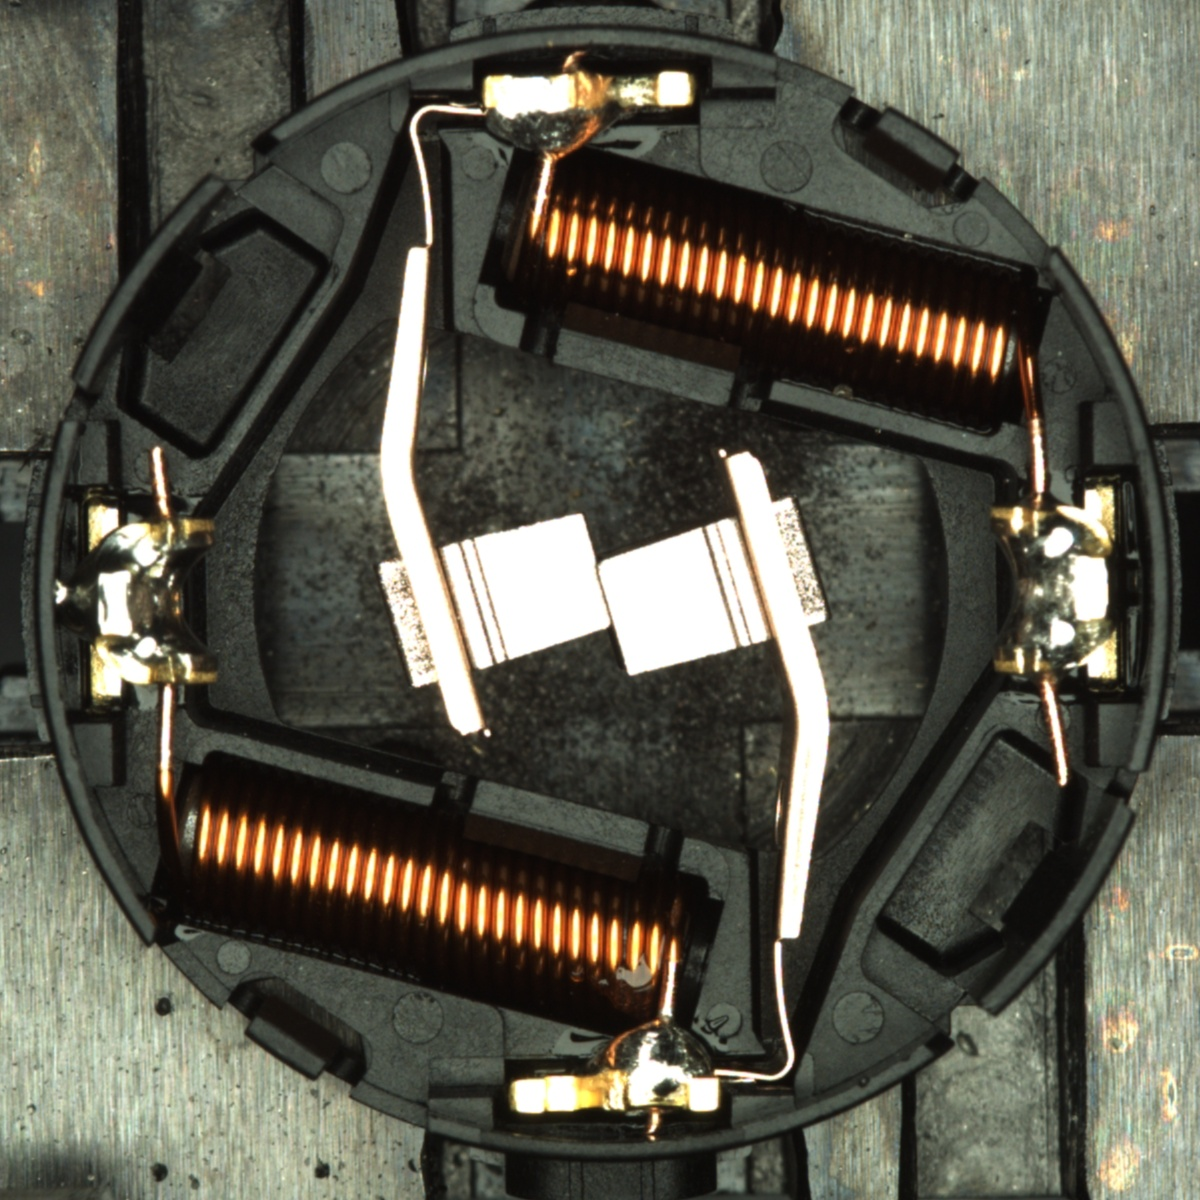1: (257, 32, 486, 256), (715, 930, 944, 1154)
2: (715, 32, 944, 256), (257, 930, 486, 1154)
3: (27, 256, 257, 481), (944, 705, 1174, 930)
4: (257, 256, 486, 481), (715, 705, 944, 930)
5: (486, 144, 715, 369), (486, 817, 715, 1042)
6: (715, 256, 944, 481), (257, 705, 486, 930)
7: (944, 256, 1174, 481), (27, 705, 257, 930)
cacbon: (400, 500, 801, 686)
chau_dien: (82, 501, 221, 701), (983, 487, 1123, 685)
chi_dinh_thanh_de: (49, 574, 76, 613)
tay_choi: (507, 1018, 723, 1117), (482, 66, 698, 165)
thanh_de: (954, 784, 1143, 1031), (59, 164, 244, 407)
